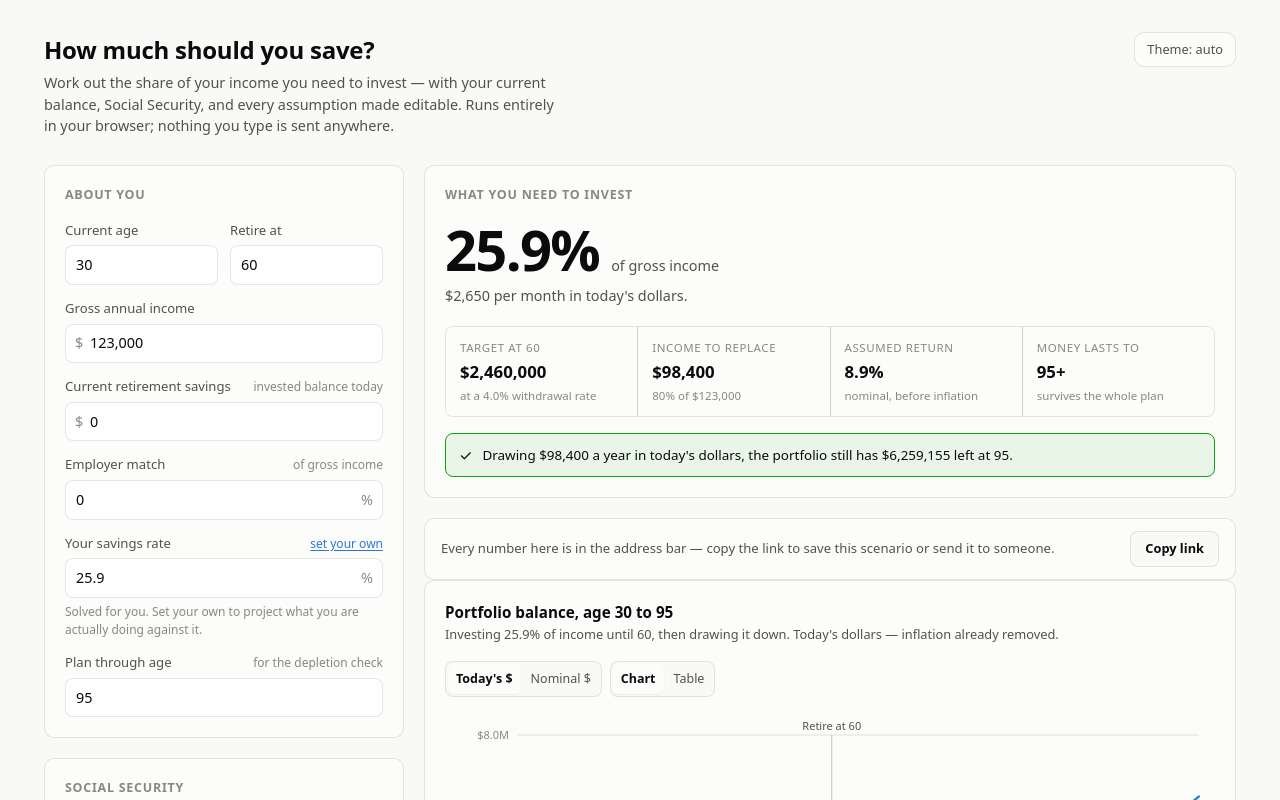
Test: currency formatting › keeps the caret after the same digit when inserting mid-number
Replace the text in the field labelled "Gross annual income" with "21000": (224, 343) [65, 324, 383, 363]
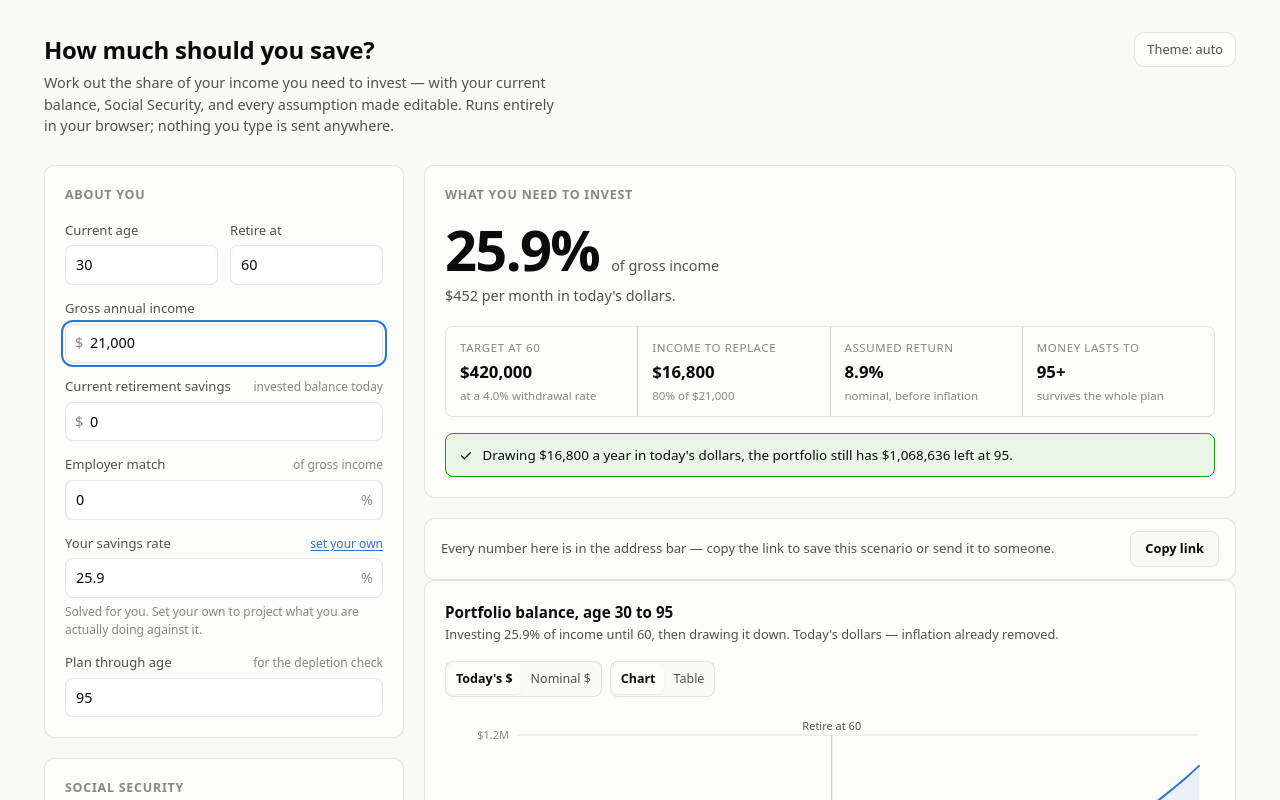
Check: the field labelled "Gross annual income" holds "21,000"
In the field labelled "Gross annual income": (224, 343) [65, 324, 383, 363], type "0"
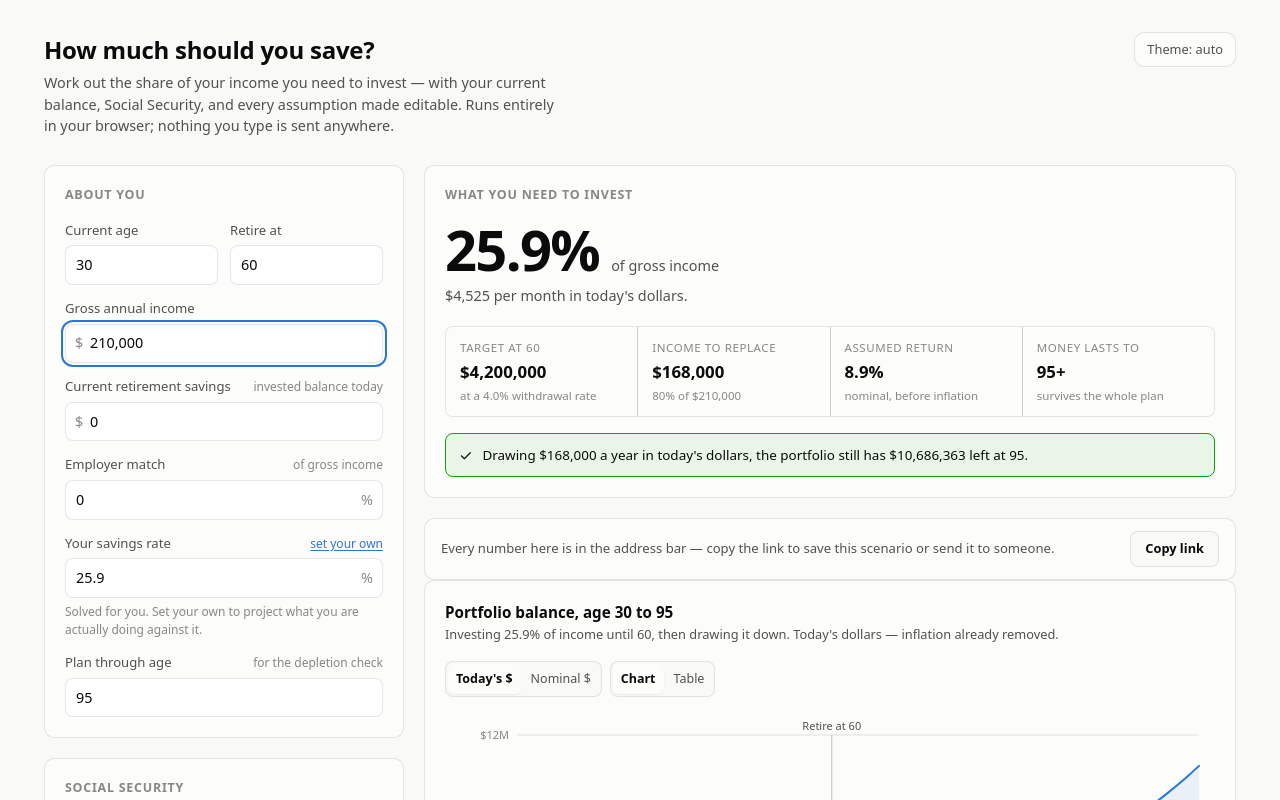
Check: the field labelled "Gross annual income" holds "210,000", box [65, 324, 383, 363]
